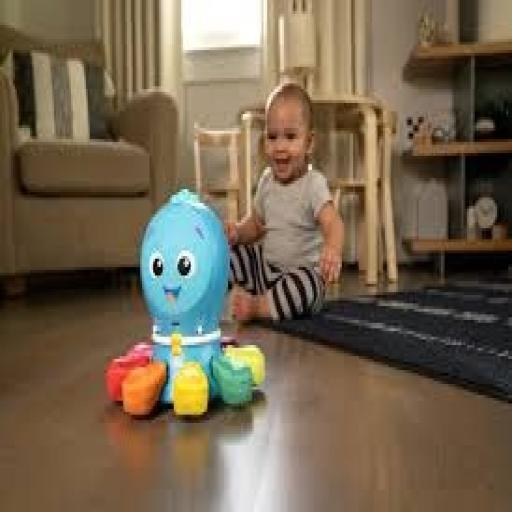baby: (225, 84, 343, 322)
